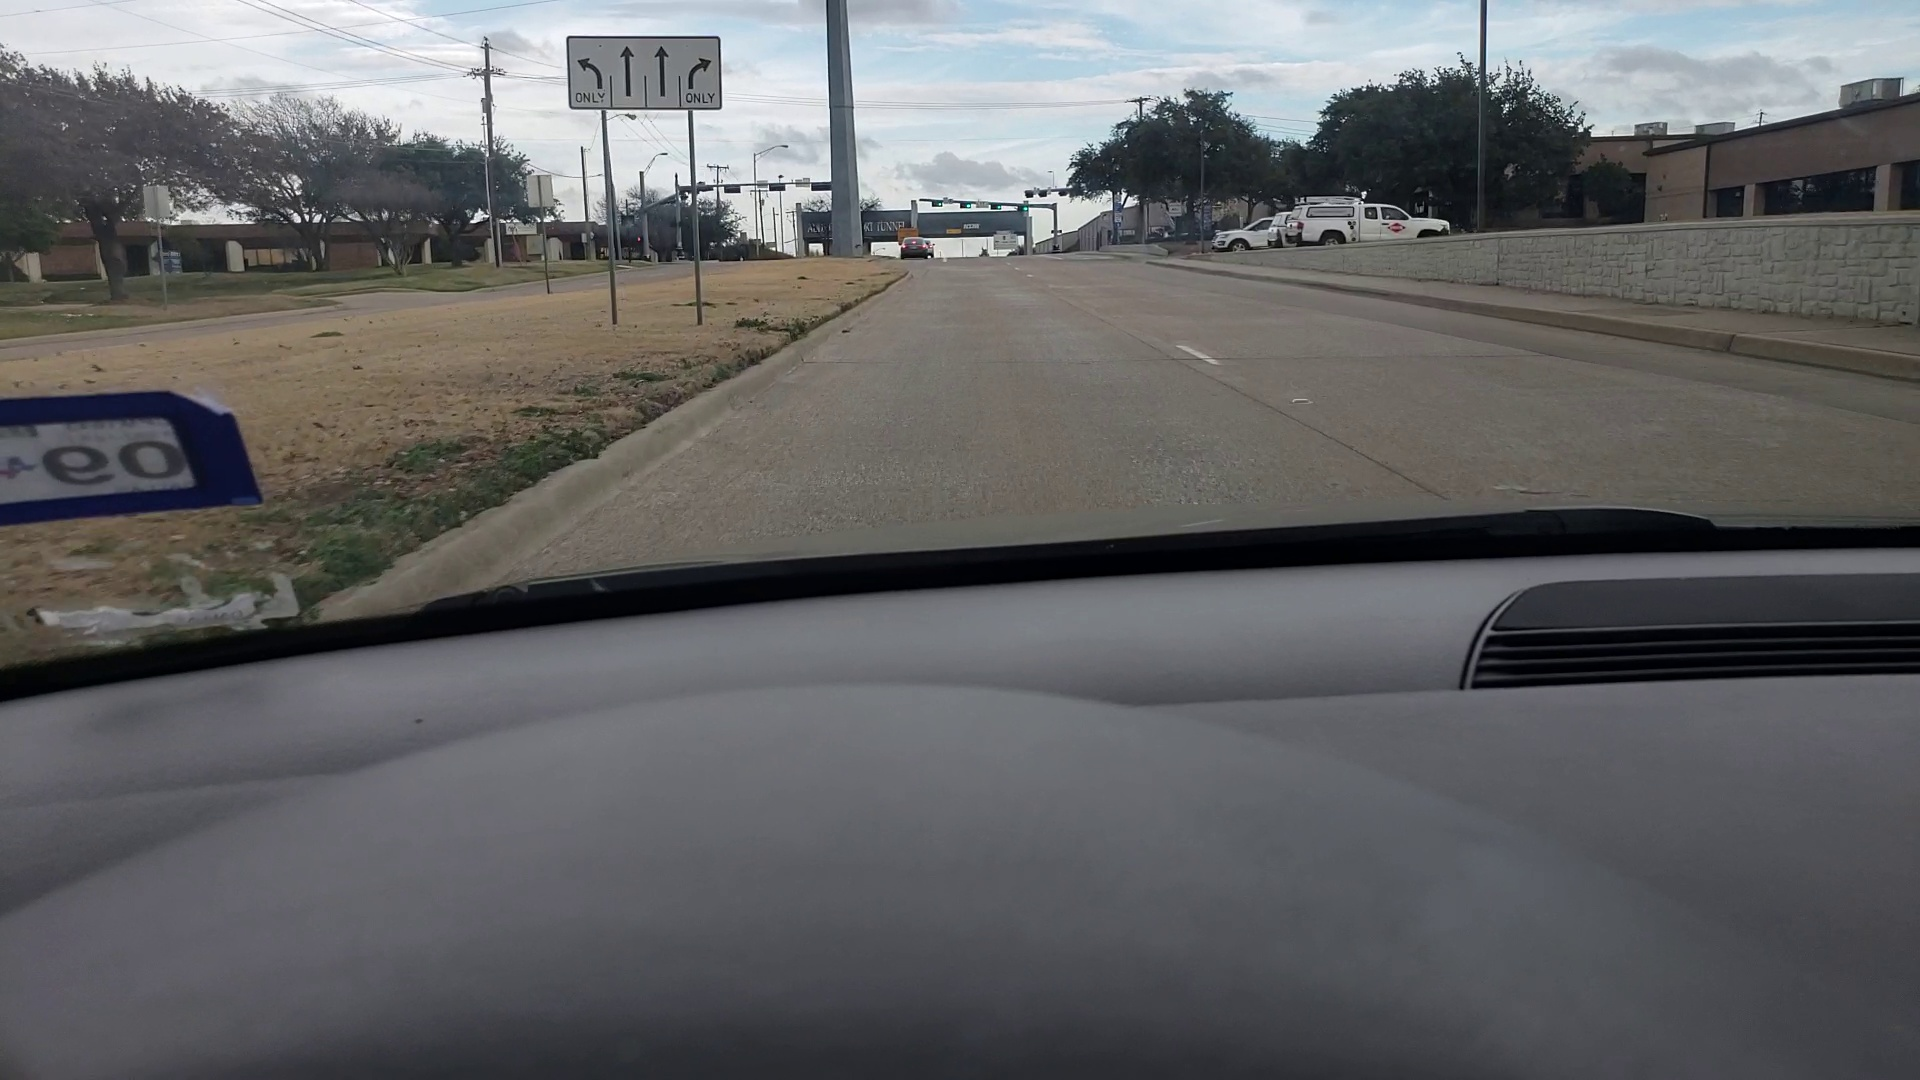car: (1212, 215, 1273, 251), (899, 237, 931, 258)
traffic light: (928, 199, 942, 207), (957, 202, 971, 208), (988, 204, 1000, 208), (1017, 204, 1029, 208)
truck: (1291, 199, 1456, 243), (1269, 211, 1296, 249)
